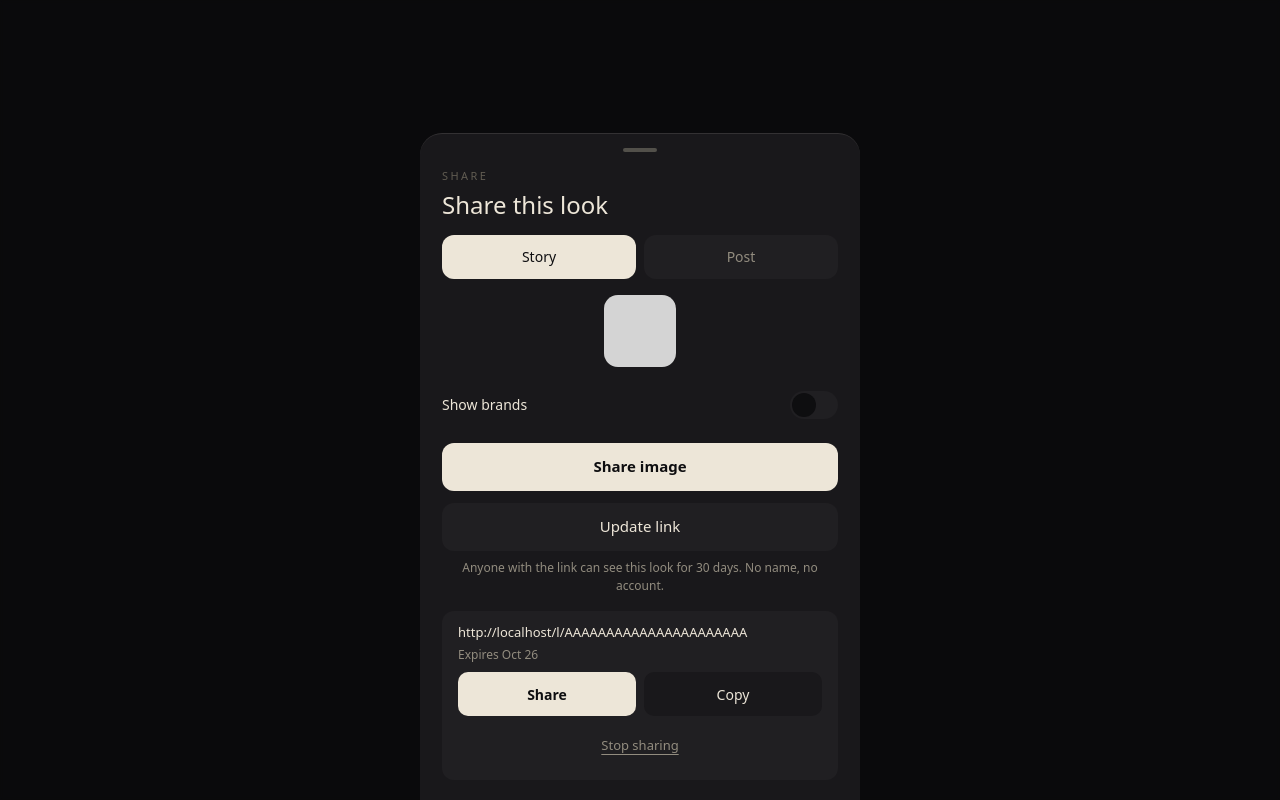
Test: Copy puts the link on the clipboard and confirms on the button itself
The width and height of the screenshot is (1280, 800).
Expected: the button "Share image" is enabled, [442, 442, 838, 490]
Expected: the text "http://localhost/l/AAAAAAAAAAAAAAAAAAAAAA" is shown, [458, 622, 747, 640]
What coordinates should you click on to do the following:
click the button "Copy"
I would click on:
 (733, 694)
Its box is [644, 672, 822, 716].
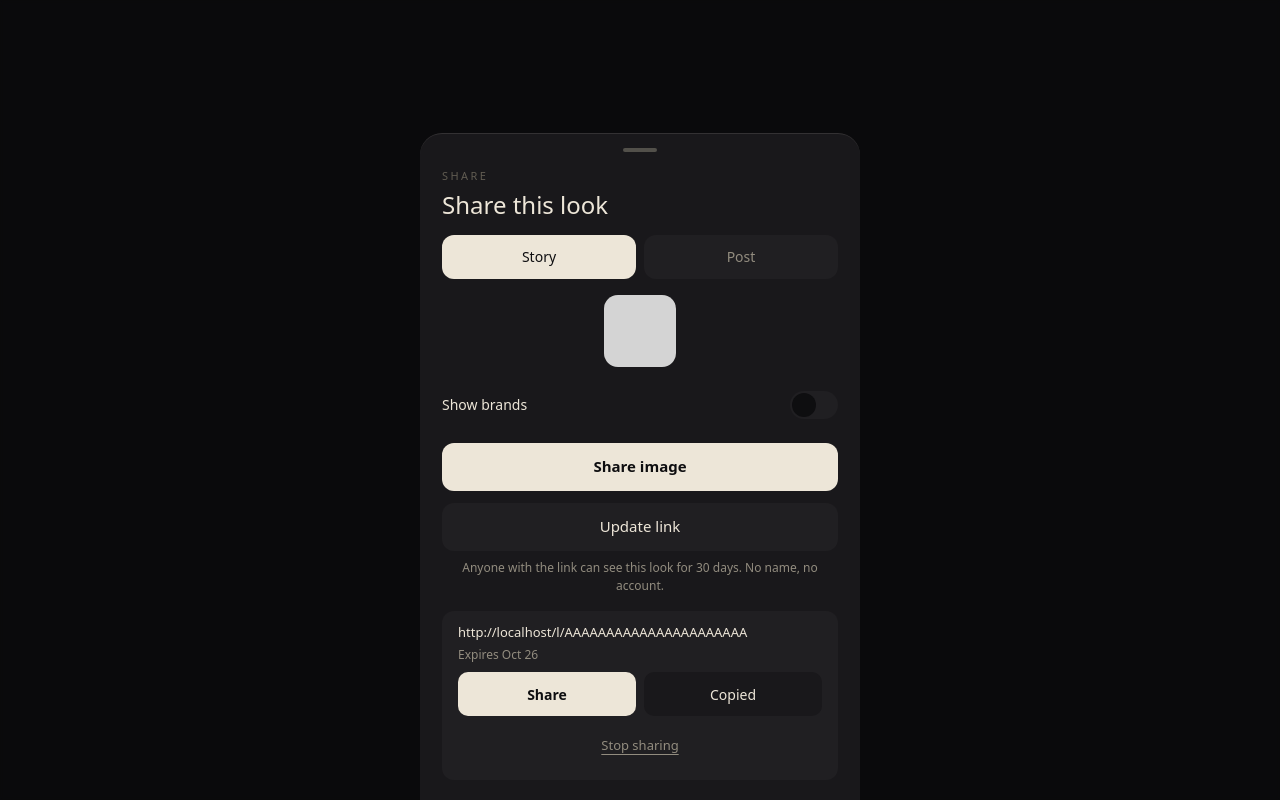
Expected: the button "Copied" is shown, [644, 672, 822, 716]
